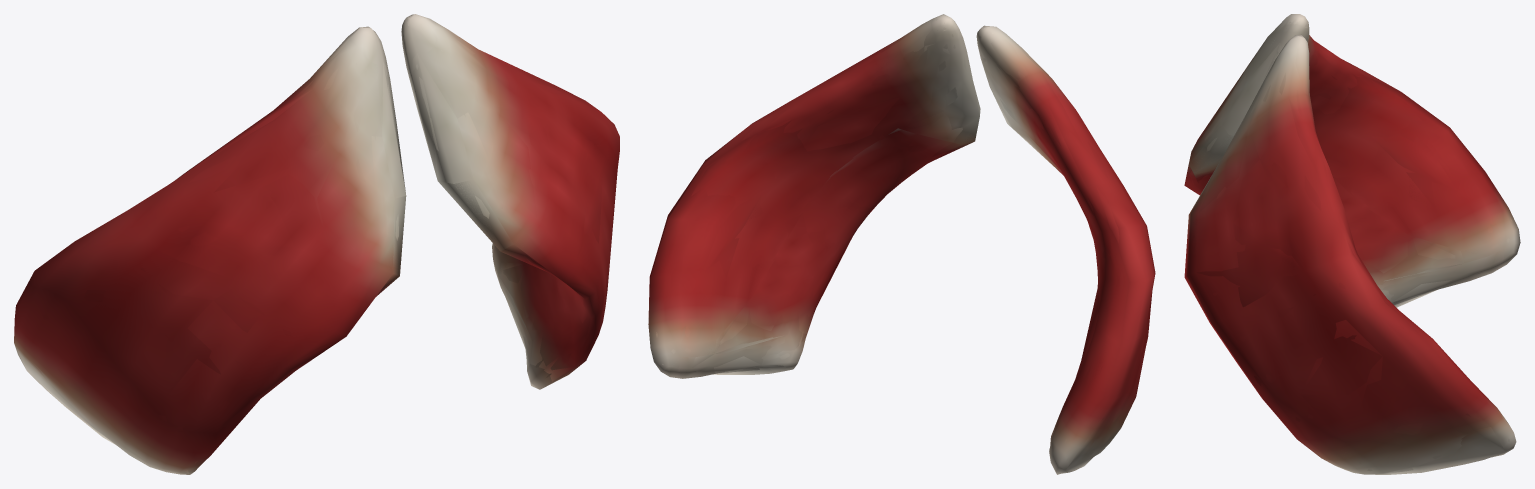
File: Nasalis.fbx
3 renders of one model, left to right at view 1: azimuth 30°, elevation 25°; view 2: azimuth 150°, elevation 25°; view 3: azimuth 270°, elevation 25°, orthographic. The views are drawn at different scales.
Visible parts, largest first — view 1: Nasalis, Nasalis low, Nasalis high; view 2: Nasalis, Nasalis high, Nasalis low; view 3: Nasalis, Nasalis low, Nasalis high.
Boxes of the visible parts, x1=… form: Nasalis: x1=14, y1=14, x2=619, y2=474; Nasalis low: x1=14, y1=15, x2=617, y2=474; Nasalis high: x1=19, y1=16, x2=612, y2=472; Nasalis: x1=648, y1=14, x2=1155, y2=474; Nasalis high: x1=649, y1=18, x2=1150, y2=473; Nasalis low: x1=651, y1=18, x2=1147, y2=470; Nasalis: x1=1184, y1=14, x2=1520, y2=474; Nasalis low: x1=1185, y1=18, x2=1511, y2=474; Nasalis high: x1=1189, y1=16, x2=1516, y2=472.
Size of the model in its own units: 2.53 by 1.87 by 1.54.
